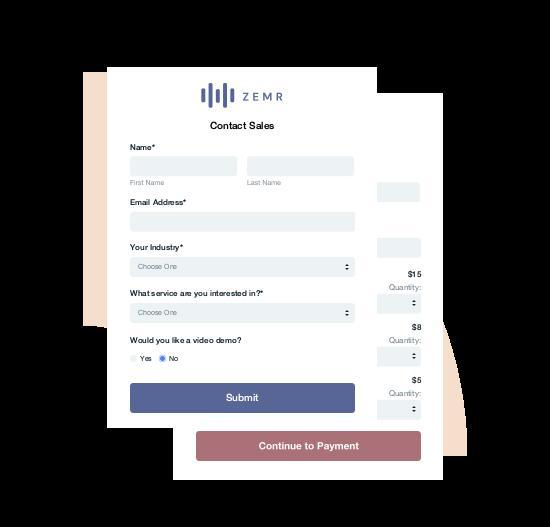button: (191, 430, 423, 464), (130, 384, 357, 415)
dropdown: (129, 256, 357, 280), (129, 304, 356, 325), (376, 293, 422, 318), (376, 347, 423, 368), (376, 400, 422, 421)
input: (130, 212, 358, 234), (128, 154, 241, 178), (246, 155, 357, 179)
label: (130, 289, 265, 300), (128, 335, 244, 346), (208, 120, 277, 132), (130, 242, 185, 255), (131, 198, 190, 208), (242, 90, 284, 104), (388, 282, 421, 293), (127, 142, 159, 153), (389, 336, 423, 346), (388, 390, 424, 399), (169, 355, 181, 363), (140, 356, 153, 363)
radio: (131, 356, 139, 363), (161, 356, 167, 363)
